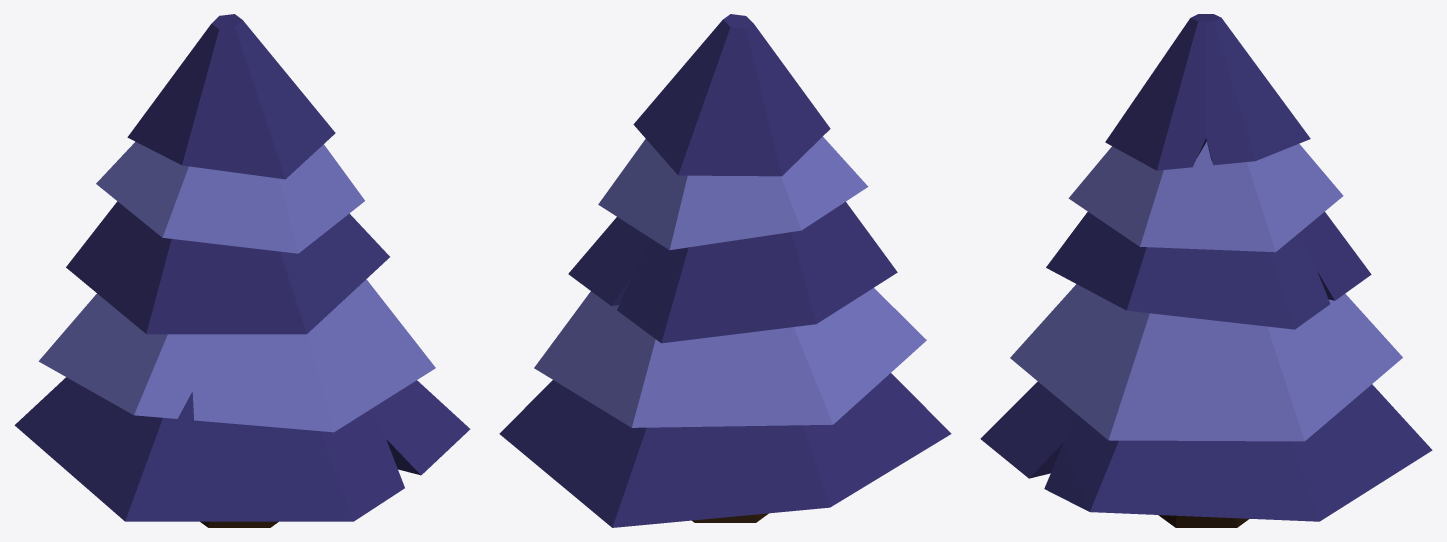
Rendered from Tree3.1.fbx.
3 views of the same model, side by side, from view 1: azimuth 30°, elevation 25°; view 2: azimuth 150°, elevation 25°; view 3: azimuth 270°, elevation 25° (orthographic).
Parts seen in each view (by area): view 1: Cylinder; view 2: Cylinder; view 3: Cylinder.
Boxes of the visible parts, x1,y1,x2,y2 form: Cylinder: (14, 14, 470, 527); Cylinder: (499, 14, 951, 527); Cylinder: (980, 14, 1432, 527).
Bounding box in the file's own units: 318 × 432 × 367.
3 materials, 3 textured.
